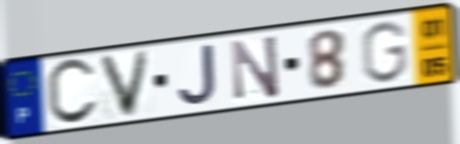8: (304, 27, 348, 93)
C: (43, 56, 101, 129)
G: (358, 19, 410, 86)
J: (175, 42, 218, 108)
N: (228, 32, 282, 102)
V: (95, 48, 154, 121)
